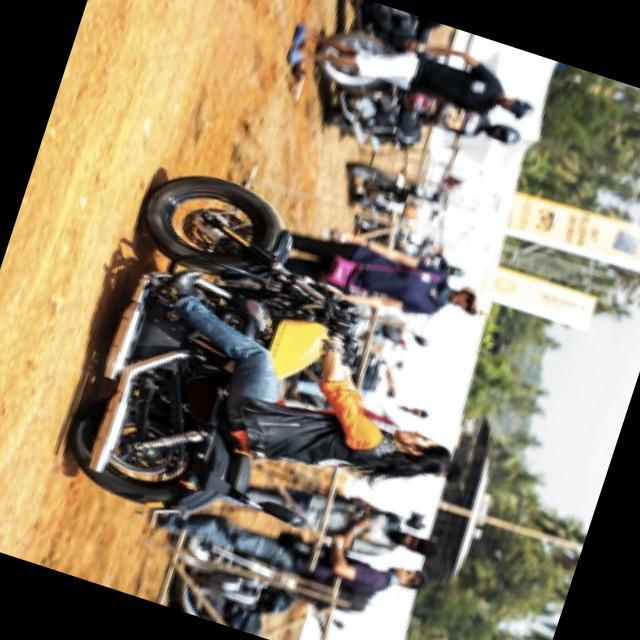bareface: (356, 405, 488, 501)
